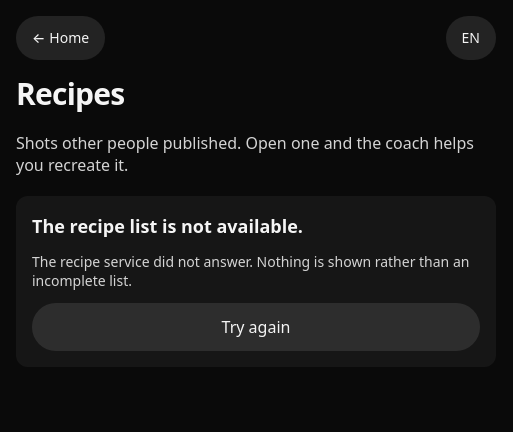
RecipeList › tells an unavailable service apart from an empty list, and can retry
Expected: the heading "The recipe list is not available." is shown, [32,214,303,238]
Expected: the text "No recipes have been published yet." is not shown
Click the button "Try again" at (256, 326), box [32,302,480,350]
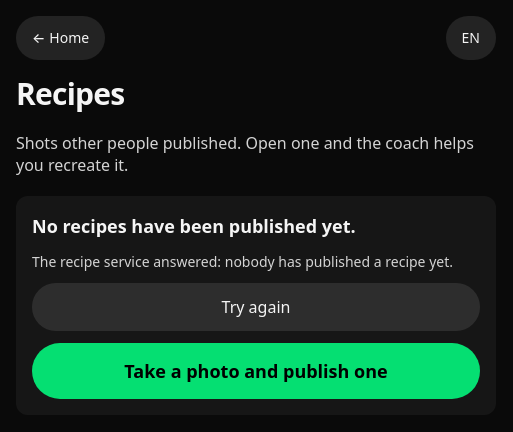
Now the heading "No recipes have been published yet." is shown, box [32,214,356,238]
Now the heading "The recipe list is not available." is gone
